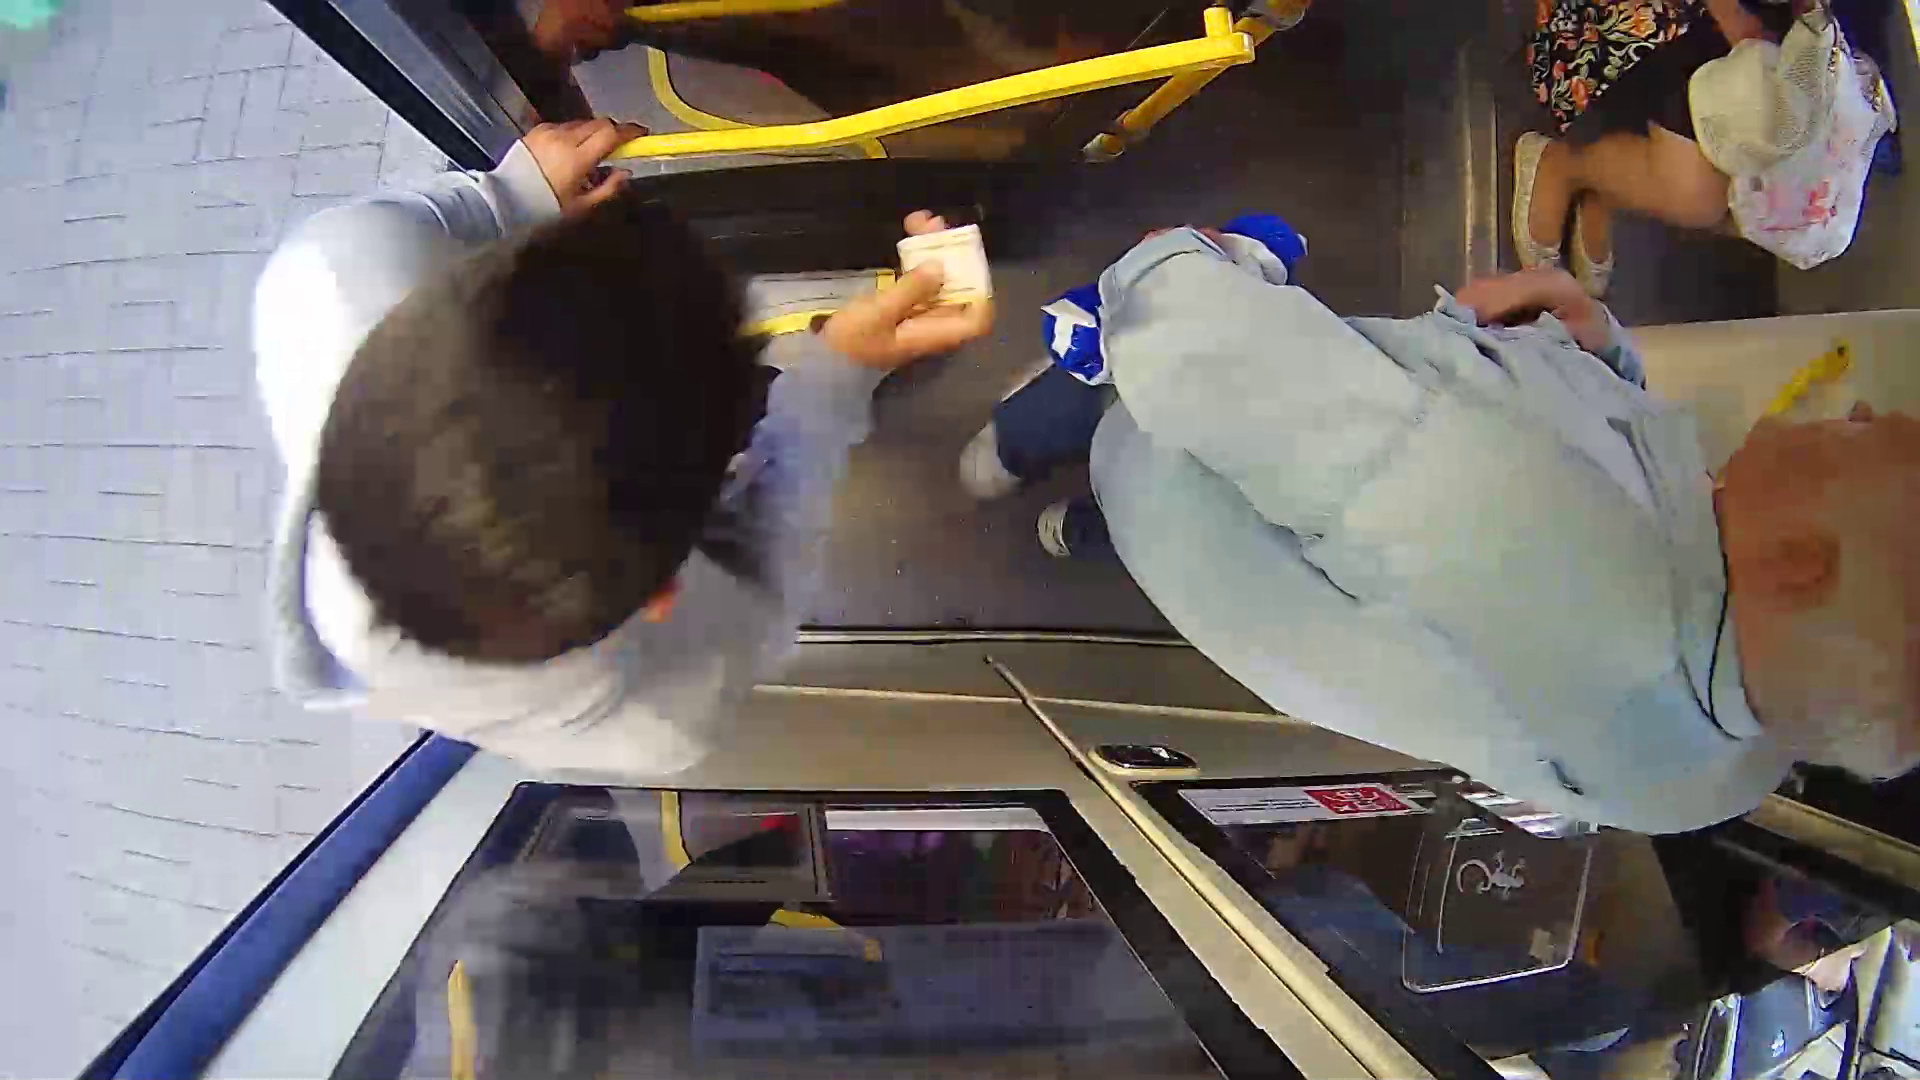person: (1037, 118, 1902, 872), (297, 109, 1088, 770)
